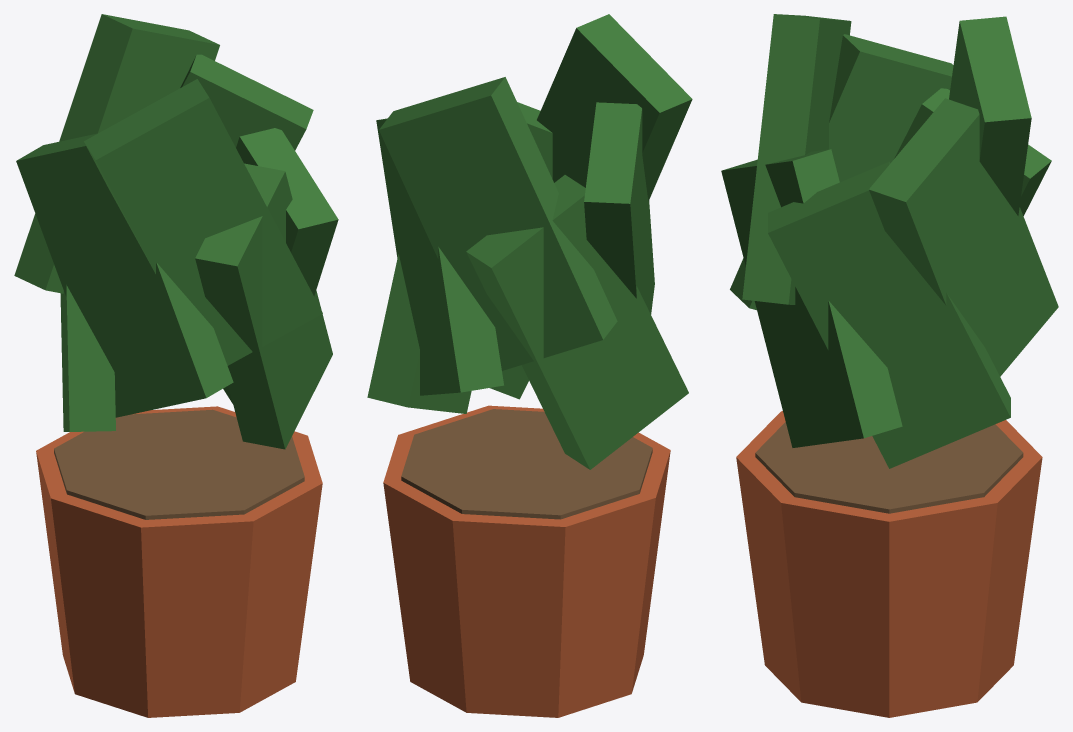
File: GD_PottedPlant_01.glb
3 views of the same model, side by side, from view 1: azimuth 30°, elevation 25°; view 2: azimuth 150°, elevation 25°; view 3: azimuth 270°, elevation 25° (orthographic). The views are drawn at different scales.
Parts seen in each view (by area): view 1: GD_PottedPlant_01; view 2: GD_PottedPlant_01; view 3: GD_PottedPlant_01.
Boxes of the visible parts, x1=… form: GD_PottedPlant_01: x1=14, y1=14, x2=338, y2=717; GD_PottedPlant_01: x1=367, y1=14, x2=692, y2=717; GD_PottedPlant_01: x1=721, y1=14, x2=1058, y2=717.
Bounding box in the file's own units: 0.3462 × 0.7355 × 0.3526.
Materials: 1 (1 with a texture image).
